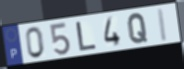0: (24, 25, 46, 60)
4: (104, 16, 123, 47)
5: (48, 20, 72, 56)
I: (156, 6, 170, 43)
L: (76, 20, 99, 52)
Q: (127, 12, 149, 45)
